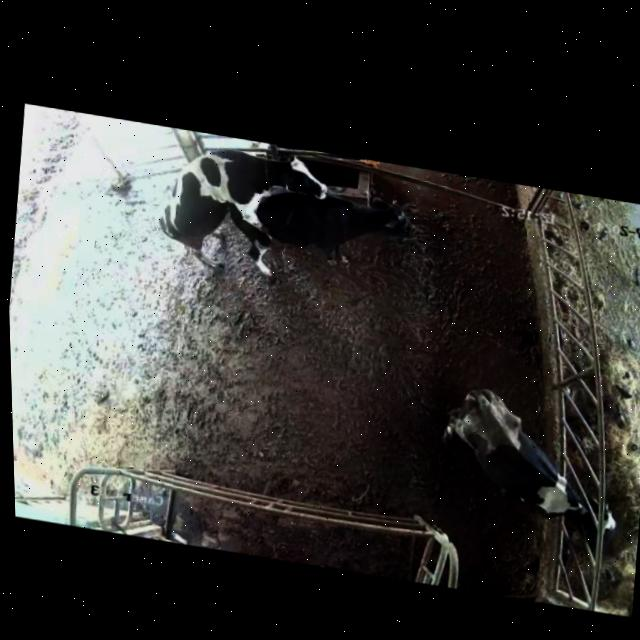eat: (522, 462, 640, 558)
ride: (143, 124, 341, 307)
stand: (247, 173, 428, 301)
